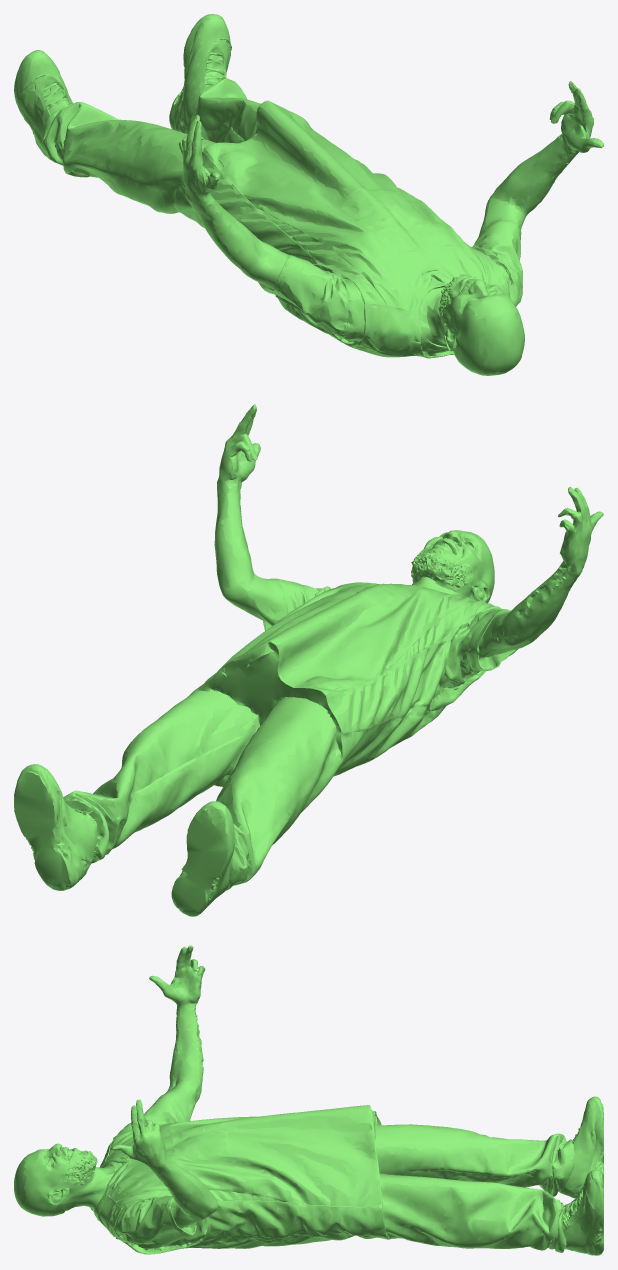
3 renders of one model, top to bottom at view 1: azimuth 30°, elevation 25°; view 2: azimuth 150°, elevation 25°; view 3: azimuth 270°, elevation 25°, orthographic. The views are drawn at different scales.
Visible parts, largest first — view 1: split_parent_0; view 2: split_parent_0; view 3: split_parent_0.
Boxes of the visible parts, left/top/right/bottom form: split_parent_0: left=14, top=14, right=603, bottom=375; split_parent_0: left=14, top=404, right=603, bottom=916; split_parent_0: left=14, top=945, right=603, bottom=1255.
Bounding box in the file's own units: 0.5933 × 0.4091 × 1.
